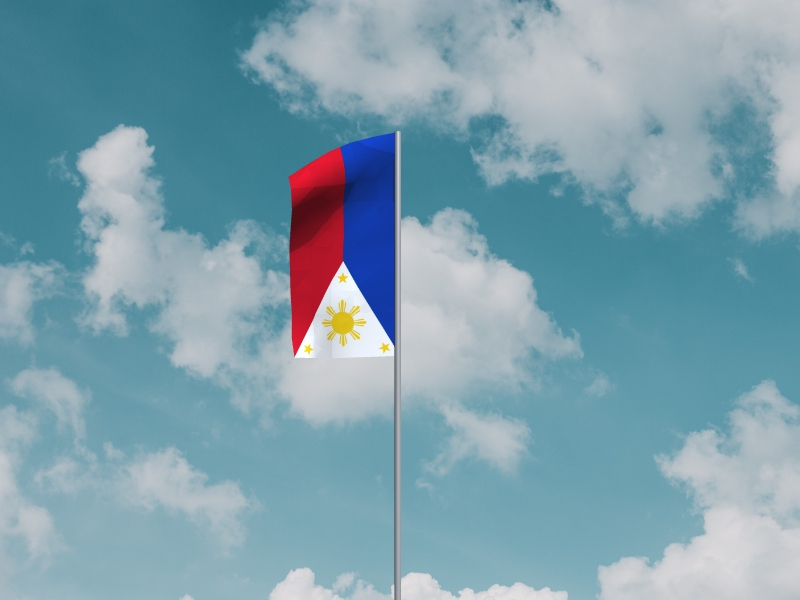ph: (288, 134, 395, 359)
